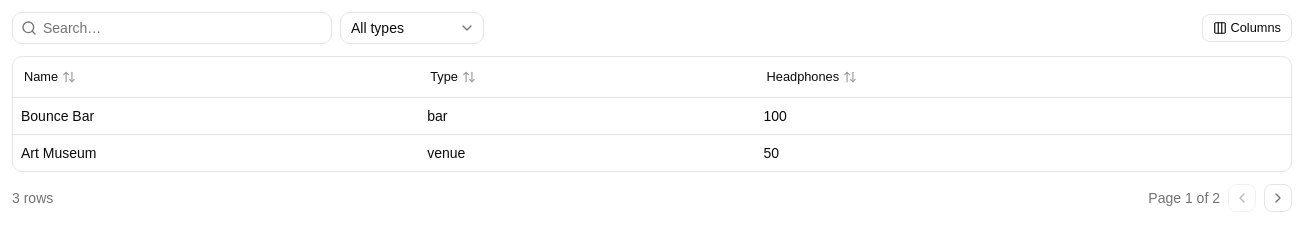
Test: DataTable › paginates
Expected: the text "Page 1 of 2" is shown, [1148,188,1220,208]
Click the button named "Next page".
click(1278, 198)  # box [1264,184,1292,212]
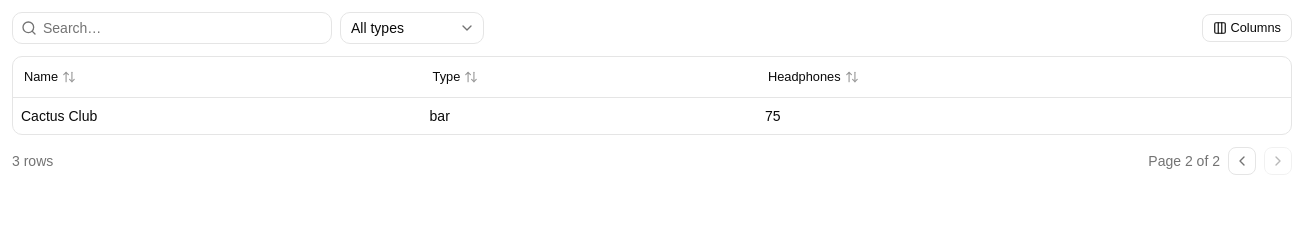
Result: the button named "Next page" is disabled at [1264,146,1292,174]
